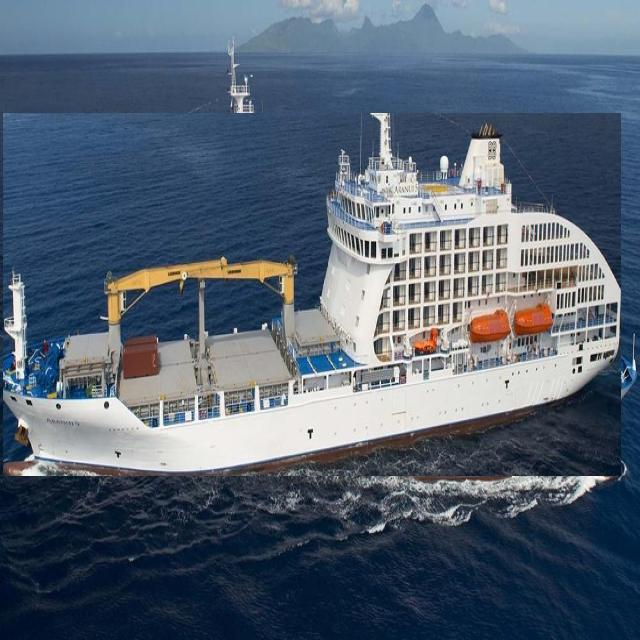PassengerShip: (3, 113, 621, 476)
